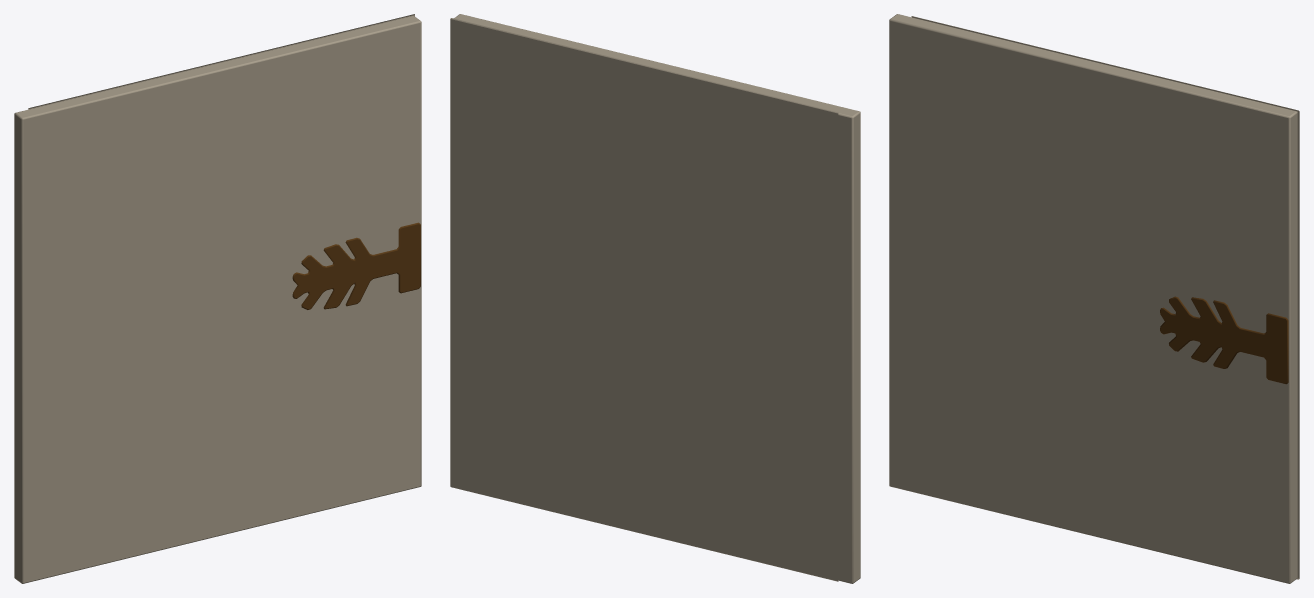
The picture shows the model from 3 angles, left to right: view 1: azimuth 30°, elevation 25°; view 2: azimuth 150°, elevation 25°; view 3: azimuth 330°, elevation 25°; orthographic projection.
Visible parts, largest first — view 1: Part3 (×2); view 2: Part3; view 3: Part3 (×2).
Boxes of the visible parts, bbox=[...] form: Part3 (×2): bbox=[14, 14, 421, 583]; Part3: bbox=[450, 14, 860, 583]; Part3 (×2): bbox=[889, 14, 1299, 583].
Size of the model in its own units: 0.5914 by 0.659 by 0.0228.
